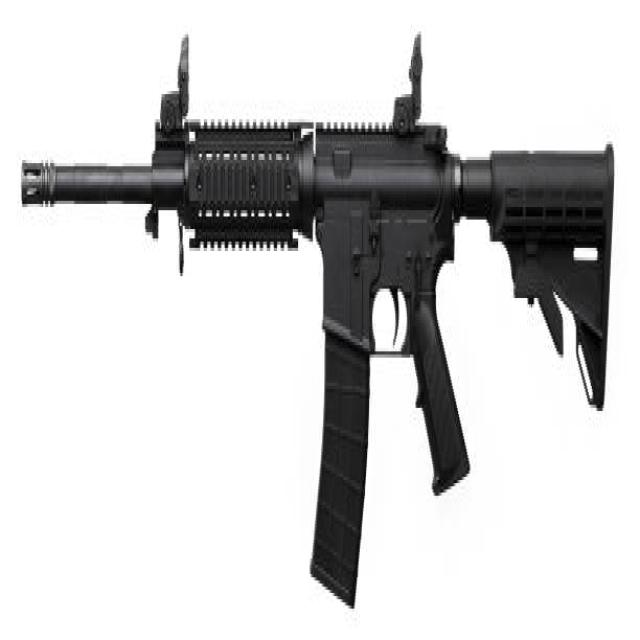rifle: (15, 21, 624, 628)
